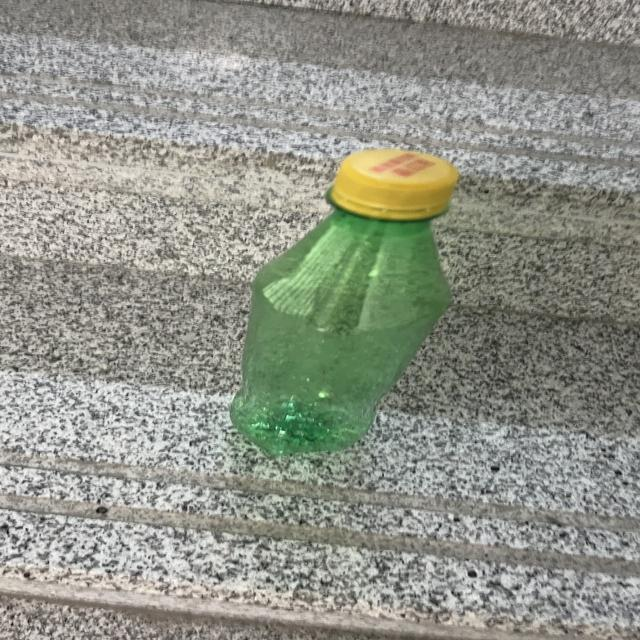empty: (230, 148, 458, 454)
